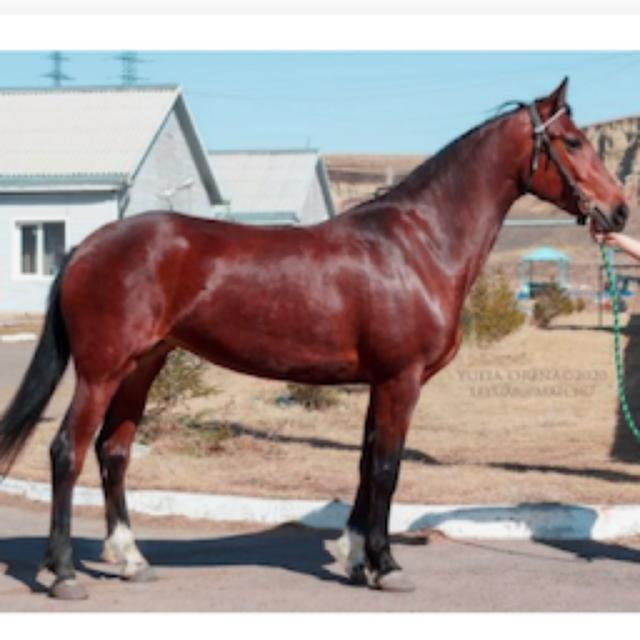Horse: (0, 72, 635, 600)
